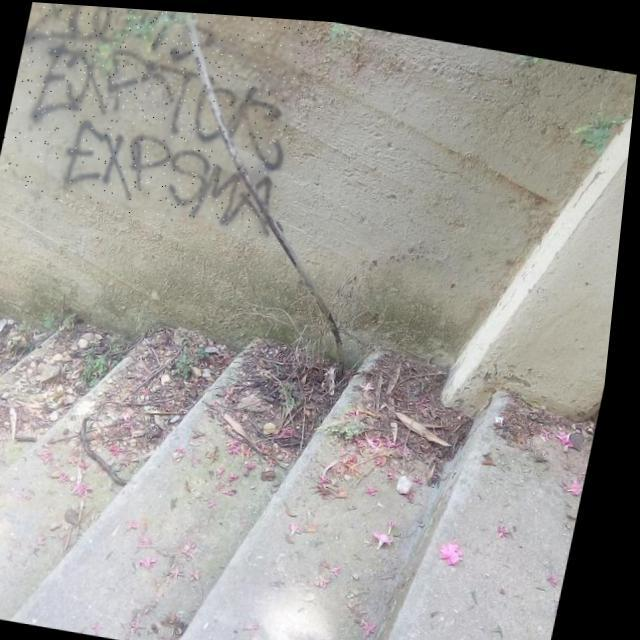-: (0, 0, 311, 234)
